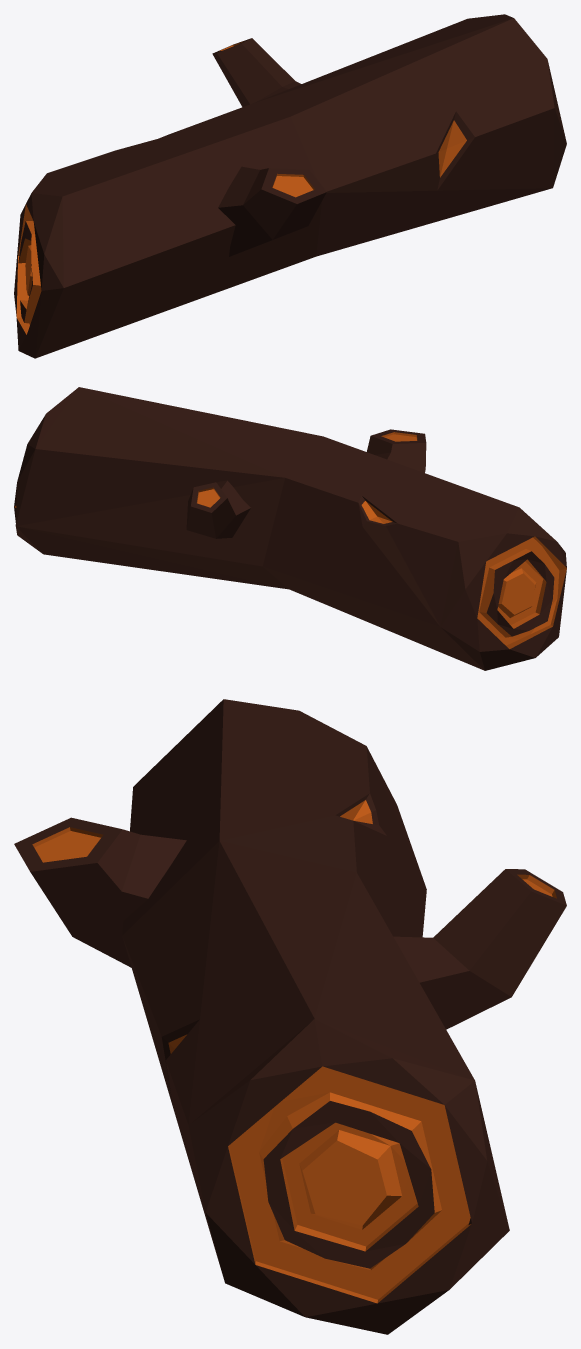
File: log.obj
The picture shows the model from 3 angles, top to bottom: view 1: azimuth 30°, elevation 25°; view 2: azimuth 150°, elevation 25°; view 3: azimuth 270°, elevation 25°; orthographic projection. The views are drawn at different scales.
Visible parts, largest first — view 1: group1305922676; view 2: group1305922676; view 3: group1305922676.
Boxes of the visible parts, bbox=[...] form: group1305922676: bbox=[14, 14, 566, 358]; group1305922676: bbox=[14, 387, 566, 670]; group1305922676: bbox=[14, 699, 566, 1334].
Size of the model in its own units: 2.68 by 0.9669 by 1.41.
